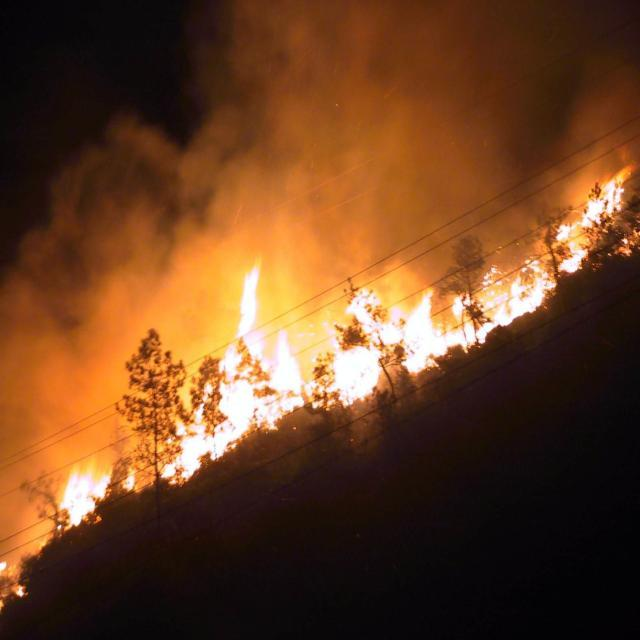Fire: (156, 173, 640, 486), (56, 468, 112, 528), (0, 560, 28, 598), (120, 466, 136, 495)
Smoke: (0, 0, 640, 601)
